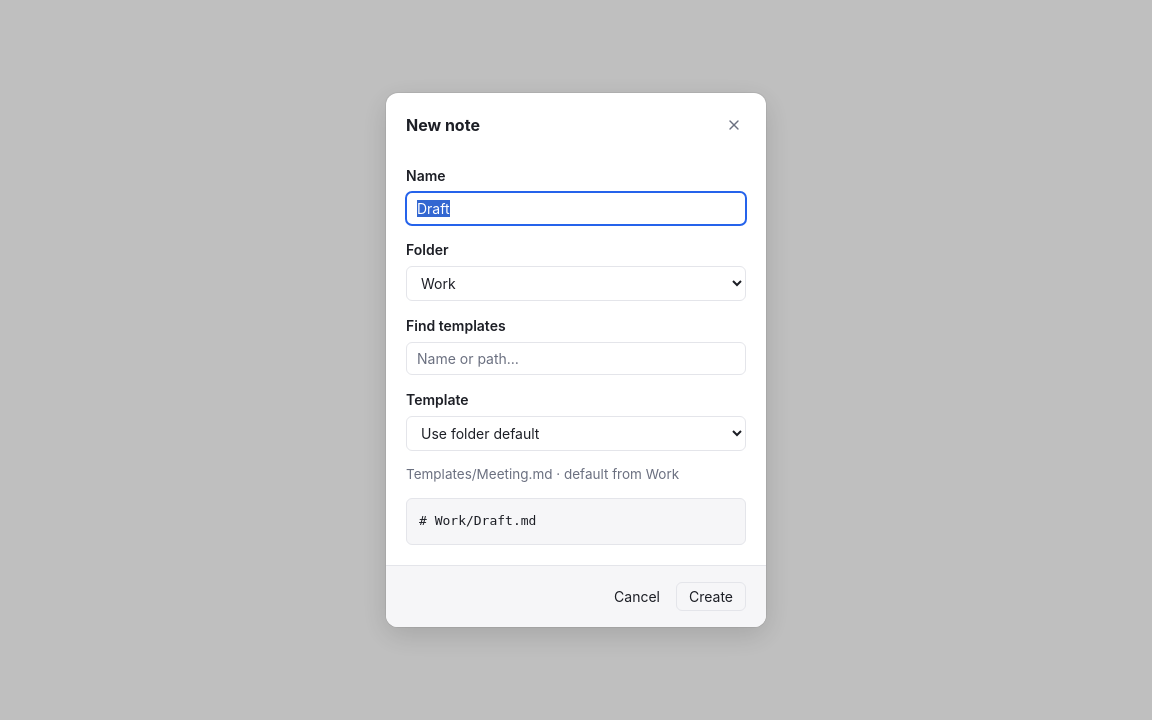
Test: pending creation blocks dismissal and duplicate writes, then preserves failed drafts
The image size is (1152, 720).
Expected: the text "# Work/Draft.md" is shown, [419, 513, 536, 528]
Click the button "Create" at [711, 597], box [676, 582, 746, 611]
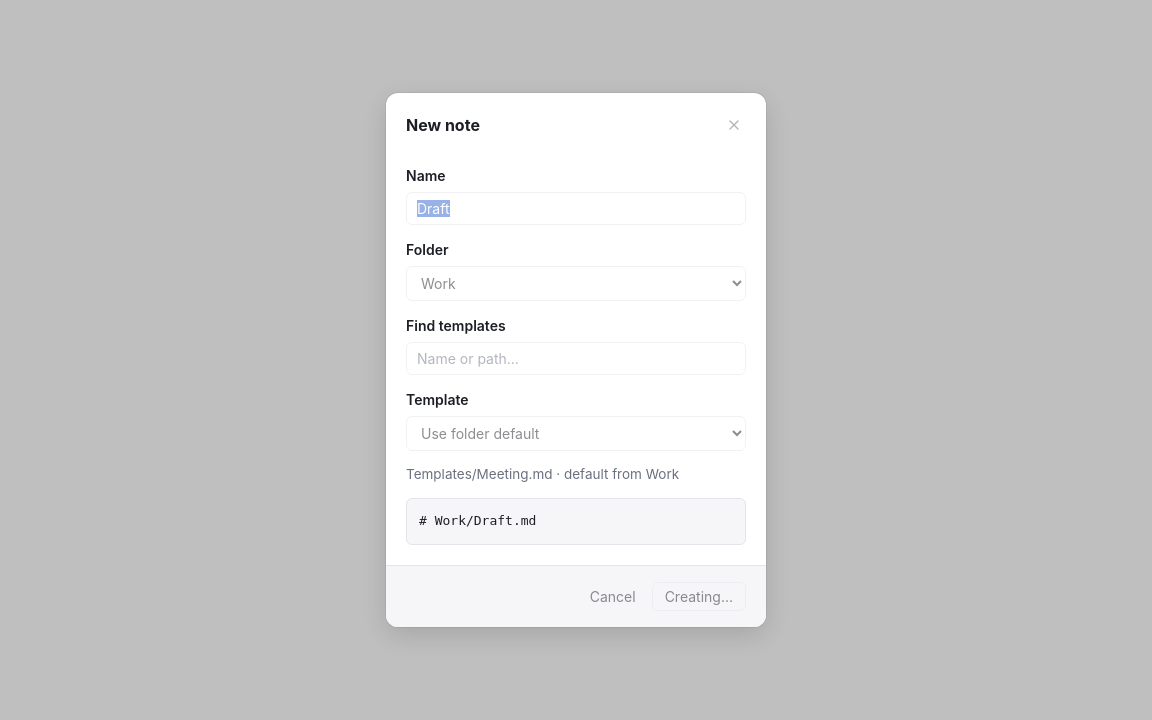
Expected: the field labelled "Name" is disabled, [406, 192, 746, 225]
Press Escape in the dialog, box [386, 93, 766, 627]
Submit the form labelled "Name", box [406, 165, 746, 545]
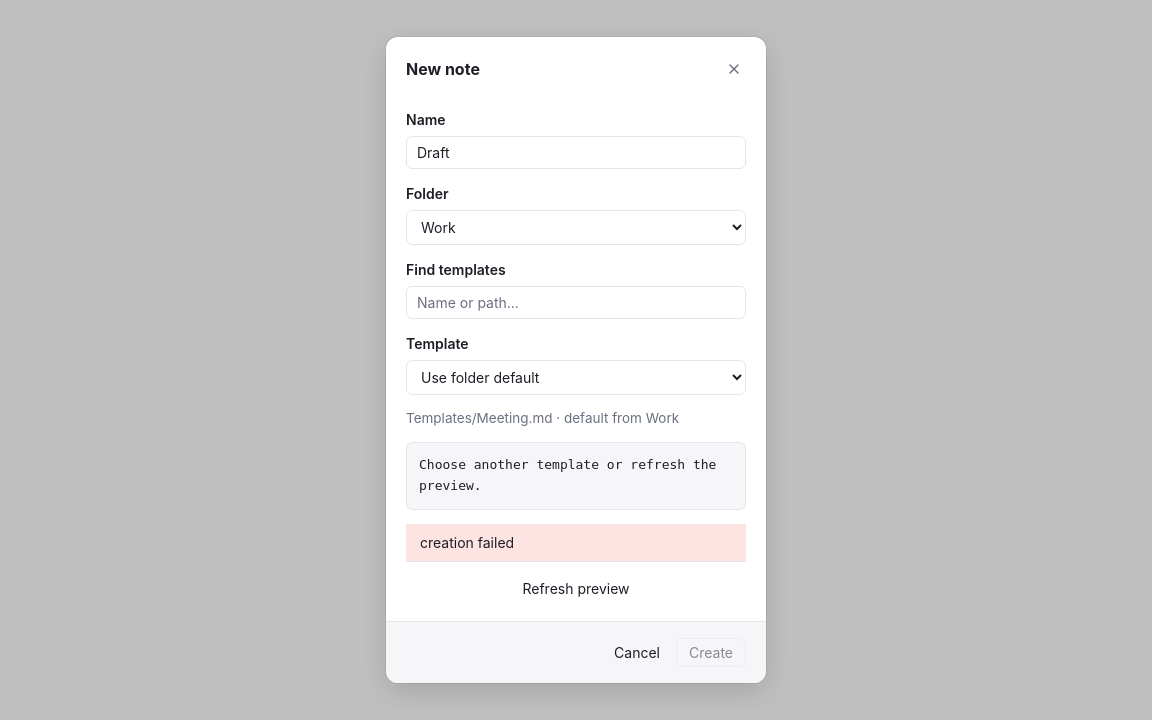
Expected: the field labelled "Name" holds "Draft", [406, 136, 746, 169]
Expected: the message reads "creation failed", [420, 534, 514, 551]
